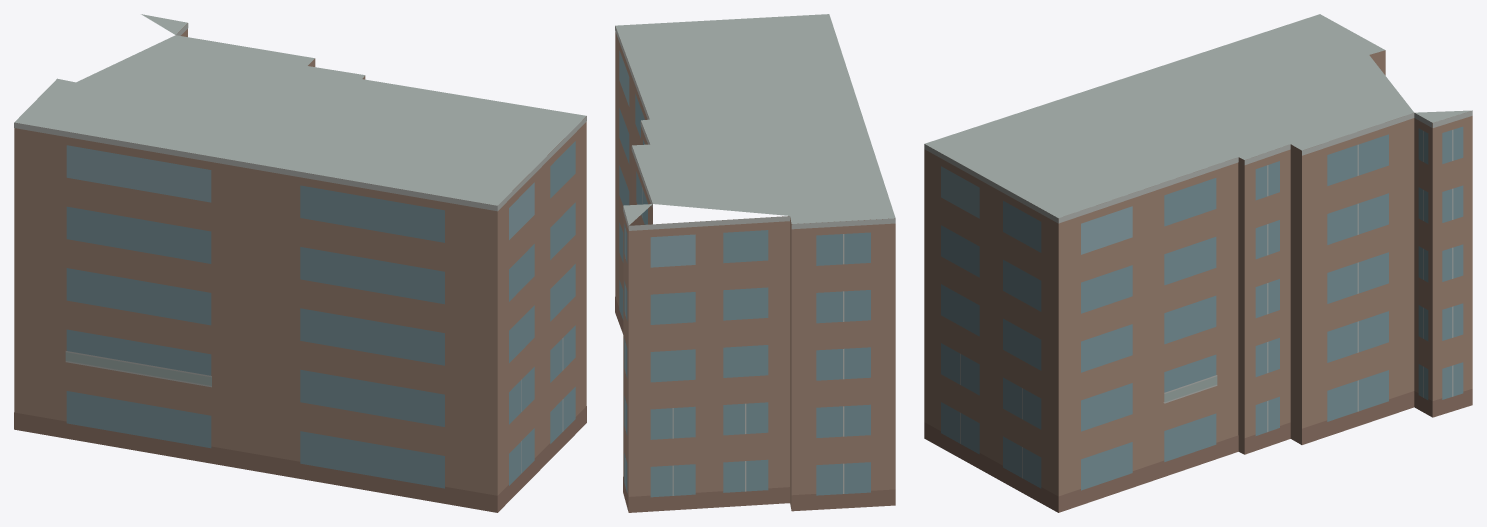
File: survey-upis-32691789.glb
3 views of the same model, side by side, from view 1: azimuth 30°, elevation 25°; view 2: azimuth 150°, elevation 25°; view 3: azimuth 270°, elevation 25° (orthographic). The views are drawn at different scales.
Visible parts, largest first — view 1: survey-upis-32691789.tmp; view 2: survey-upis-32691789.tmp; view 3: survey-upis-32691789.tmp.
Boxes of the visible parts, x1=… form: survey-upis-32691789.tmp: x1=14, y1=14, x2=586, y2=512; survey-upis-32691789.tmp: x1=615, y1=14, x2=895, y2=512; survey-upis-32691789.tmp: x1=924, y1=14, x2=1472, y2=512.
Bounding box in the file's own units: 20.11 × 13.52 × 22.81.
